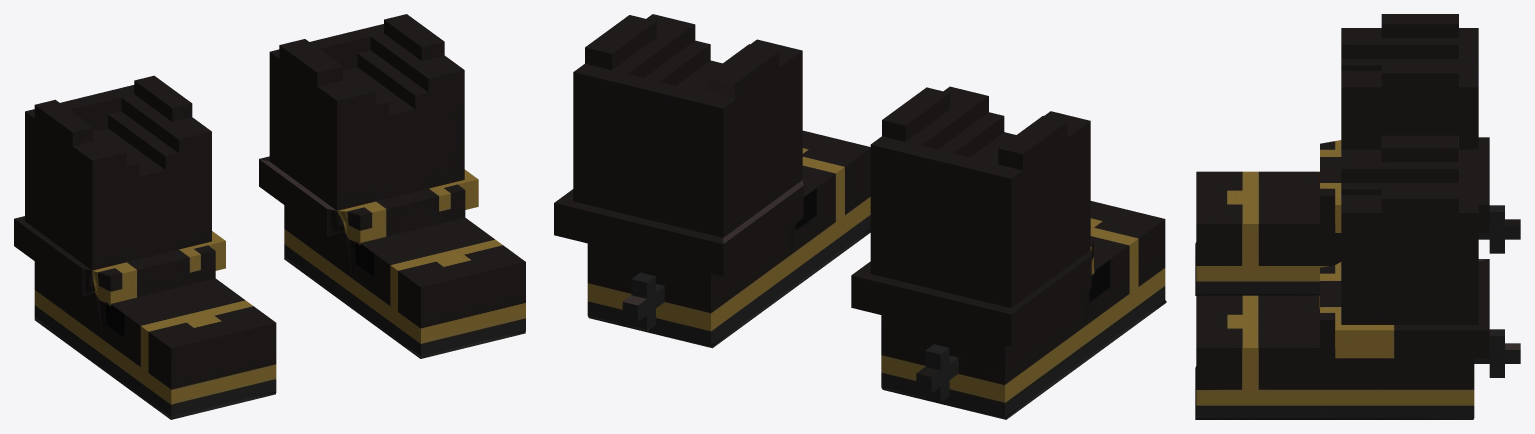
The model's file is boots_cowboy.glb.
3 renders of one model, left to right at view 1: azimuth 30°, elevation 25°; view 2: azimuth 150°, elevation 25°; view 3: azimuth 270°, elevation 25°, orthographic. The views are drawn at different scales.
Parts seen in each view (by area): view 1: cowboy_boots.001; view 2: cowboy_boots.001; view 3: cowboy_boots.001.
Part boxes in pixels (box(x1,y1,x2,y2)): cowboy_boots.001: box(14, 14, 525, 419); cowboy_boots.001: box(554, 14, 1166, 419); cowboy_boots.001: box(1195, 14, 1520, 419).
Bounding box in the file's own units: 2.96 × 1.62 × 2.11.
1 material, 1 textured.
